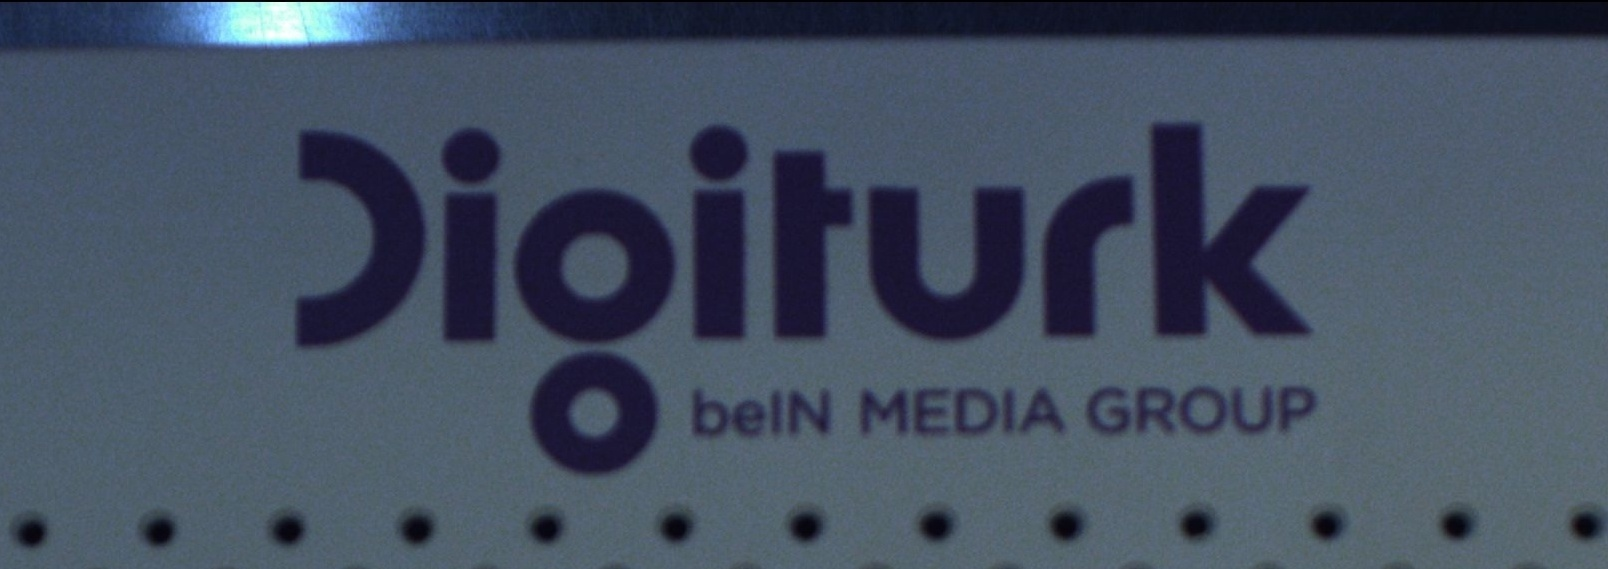BW_H168ADigiturk: (274, 79, 1343, 484)
